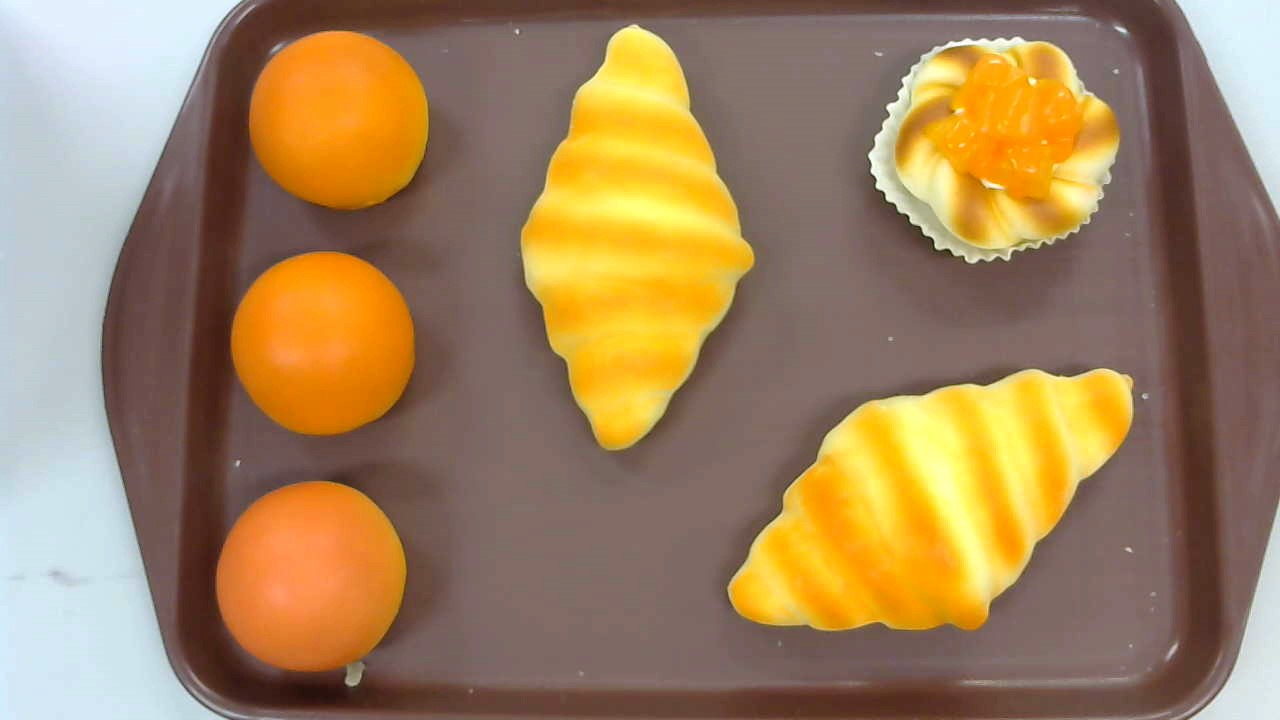bun: (216, 479, 407, 672), (230, 251, 415, 436), (249, 31, 428, 209)
croissant: (727, 363, 1134, 631), (518, 23, 755, 452)
mango tart: (866, 34, 1121, 265)
